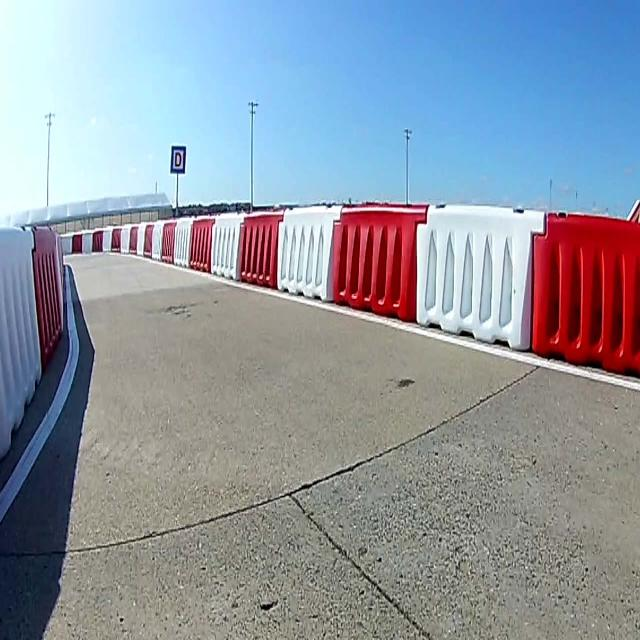durak: (171, 146, 186, 174)
